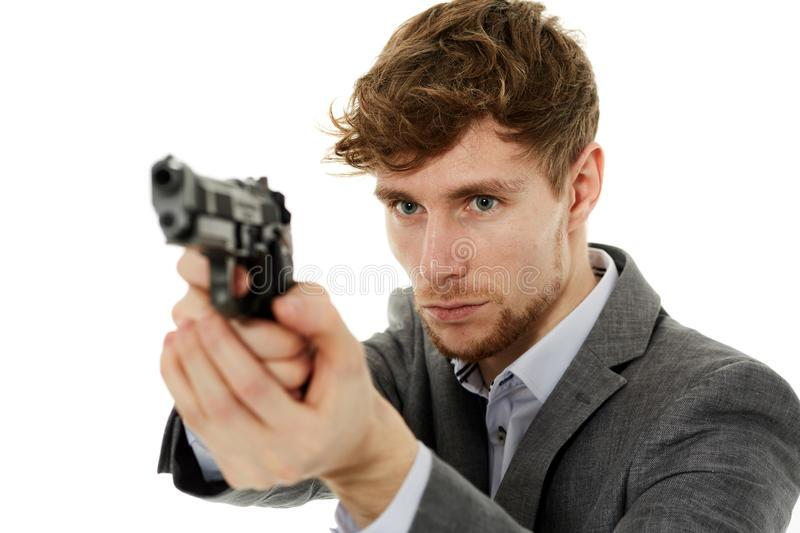criminal: (145, 0, 800, 533)
weapon: (145, 155, 297, 328)
